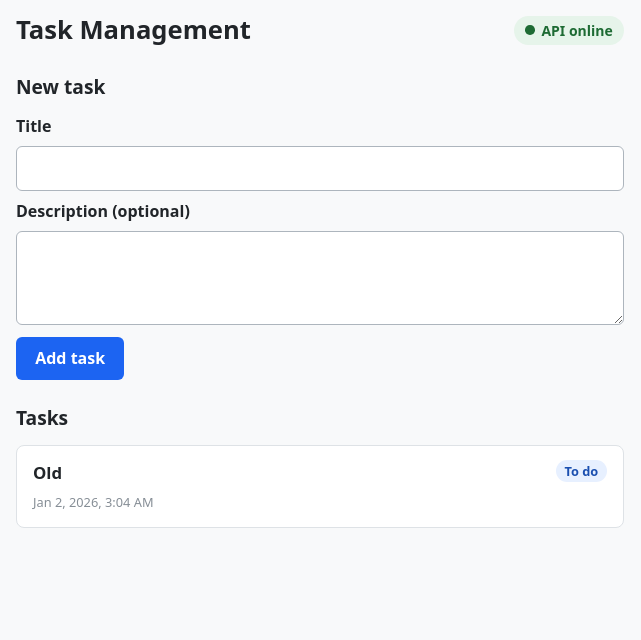
App › adds a task from the form to the top of the list
The image size is (641, 640).
Check: the heading "Old" is shown, box 33,460 -> 62,485
Type "Buy milk" into the field labelled "Title".
click(320, 169); type("Buy milk")  # box 16,146 -> 624,191
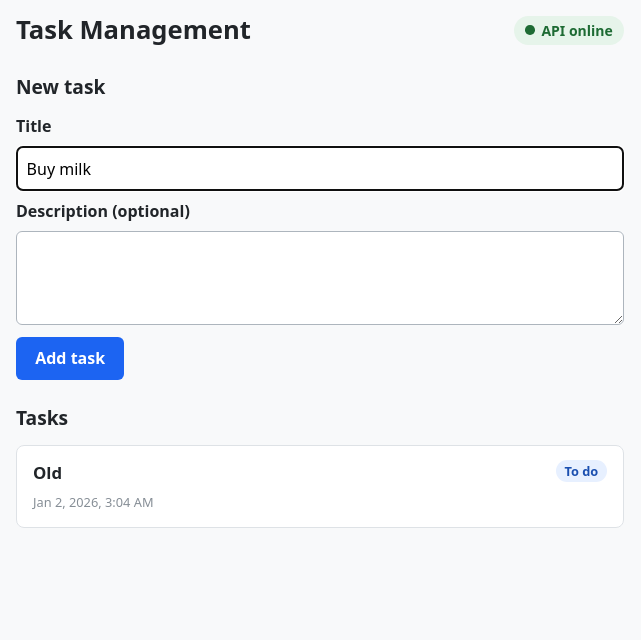
Click the button "Add task".
click(70, 358)  # box 16,337 -> 124,380
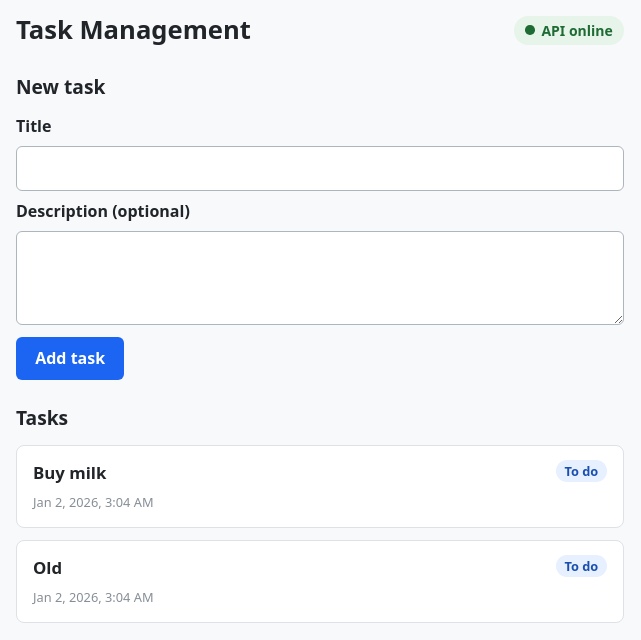
Check: the heading "Buy milk" is shown, box 33,460 -> 106,485
Check: the field labelled "Title" is empty, box 16,146 -> 624,191
